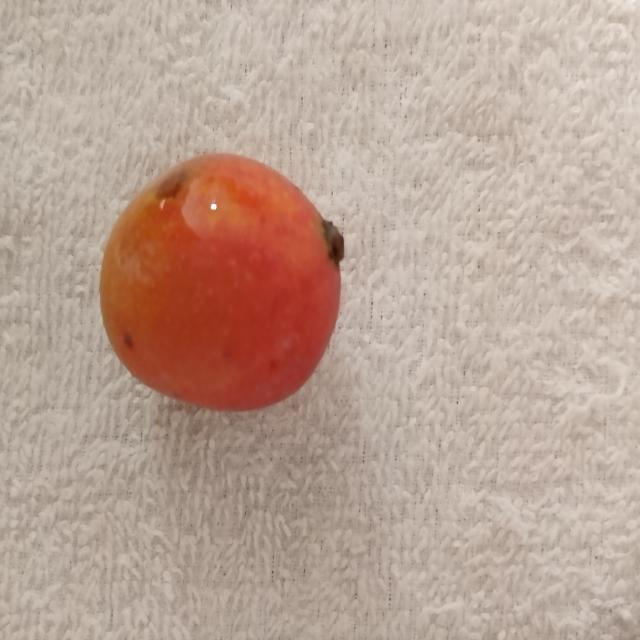mango: (100, 154, 343, 410)
